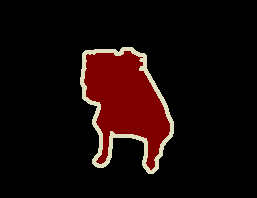dog: (79, 50, 173, 173)
